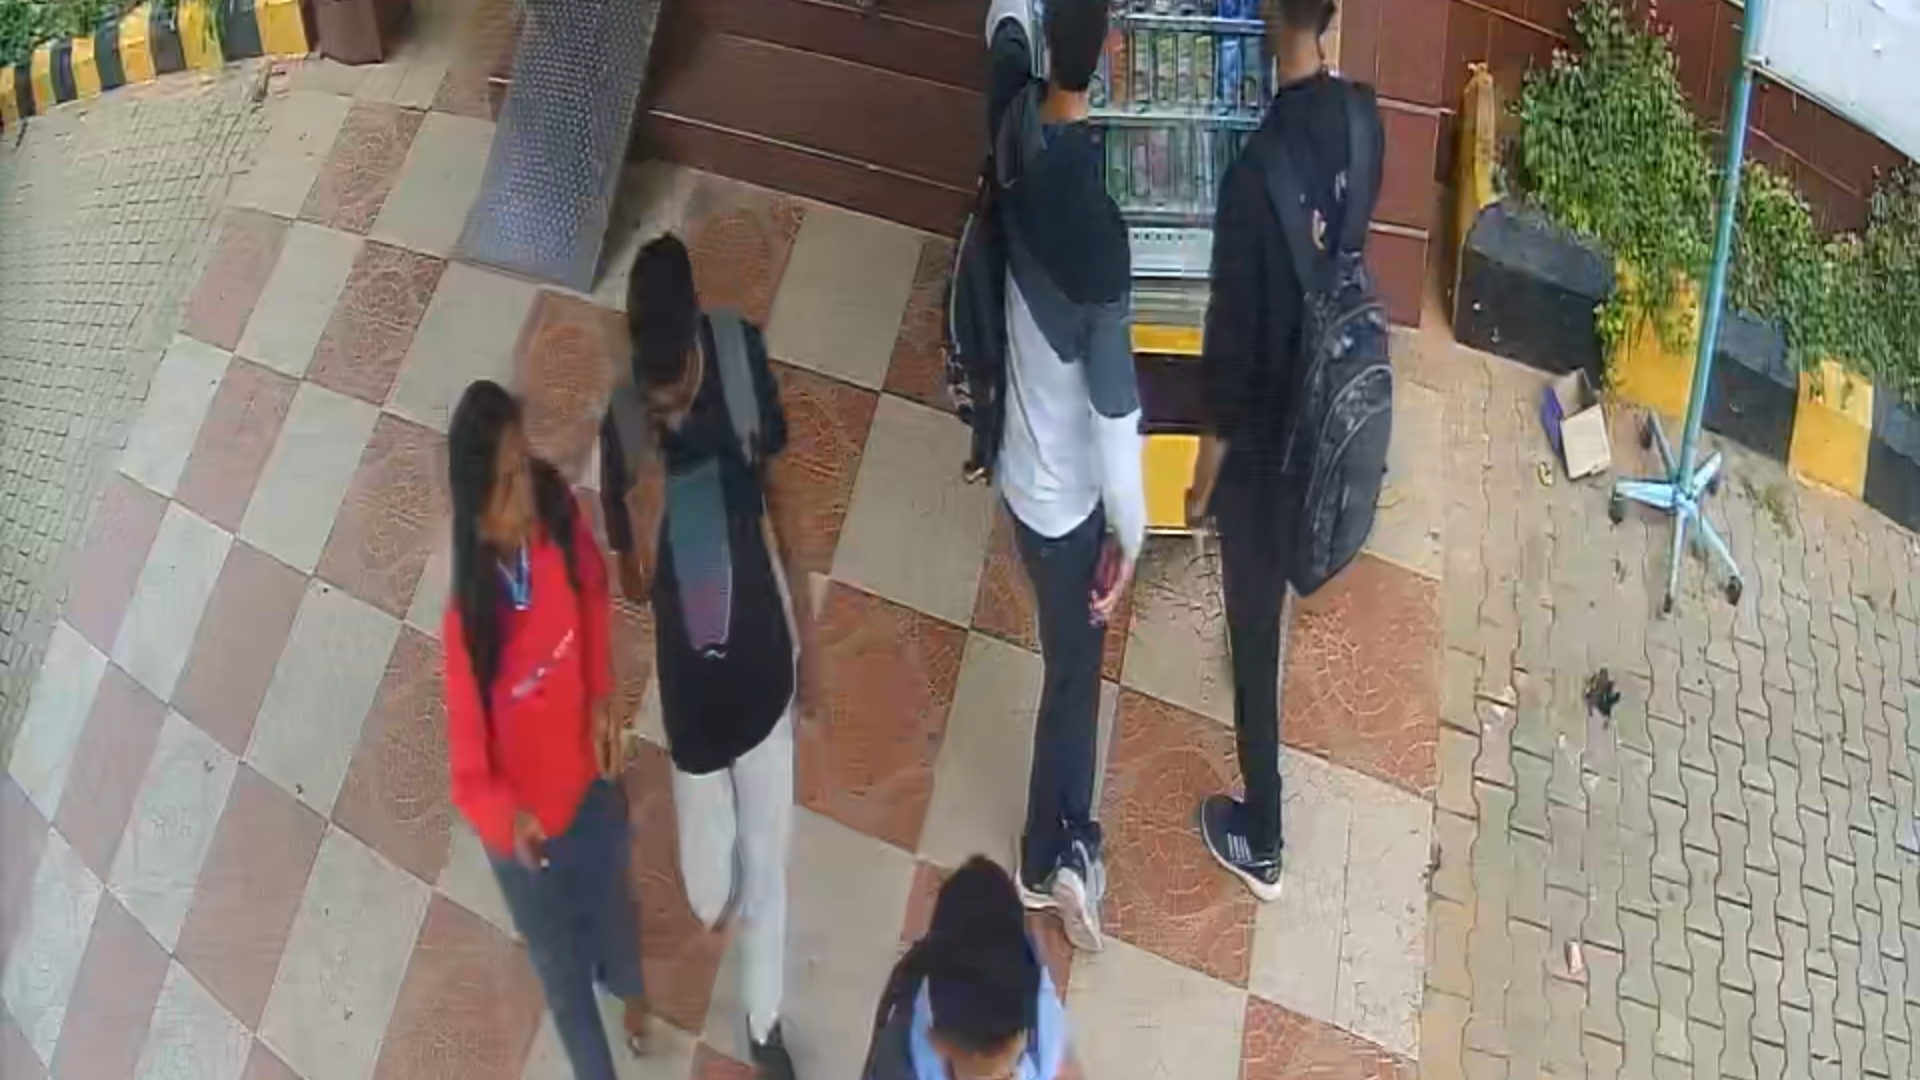intruder: (587, 237, 840, 1080), (429, 382, 667, 1080)
